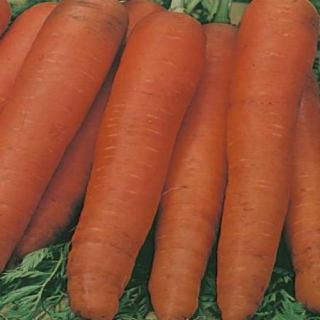carrot: (68, 7, 207, 320), (0, 0, 130, 277), (218, 0, 320, 320)
